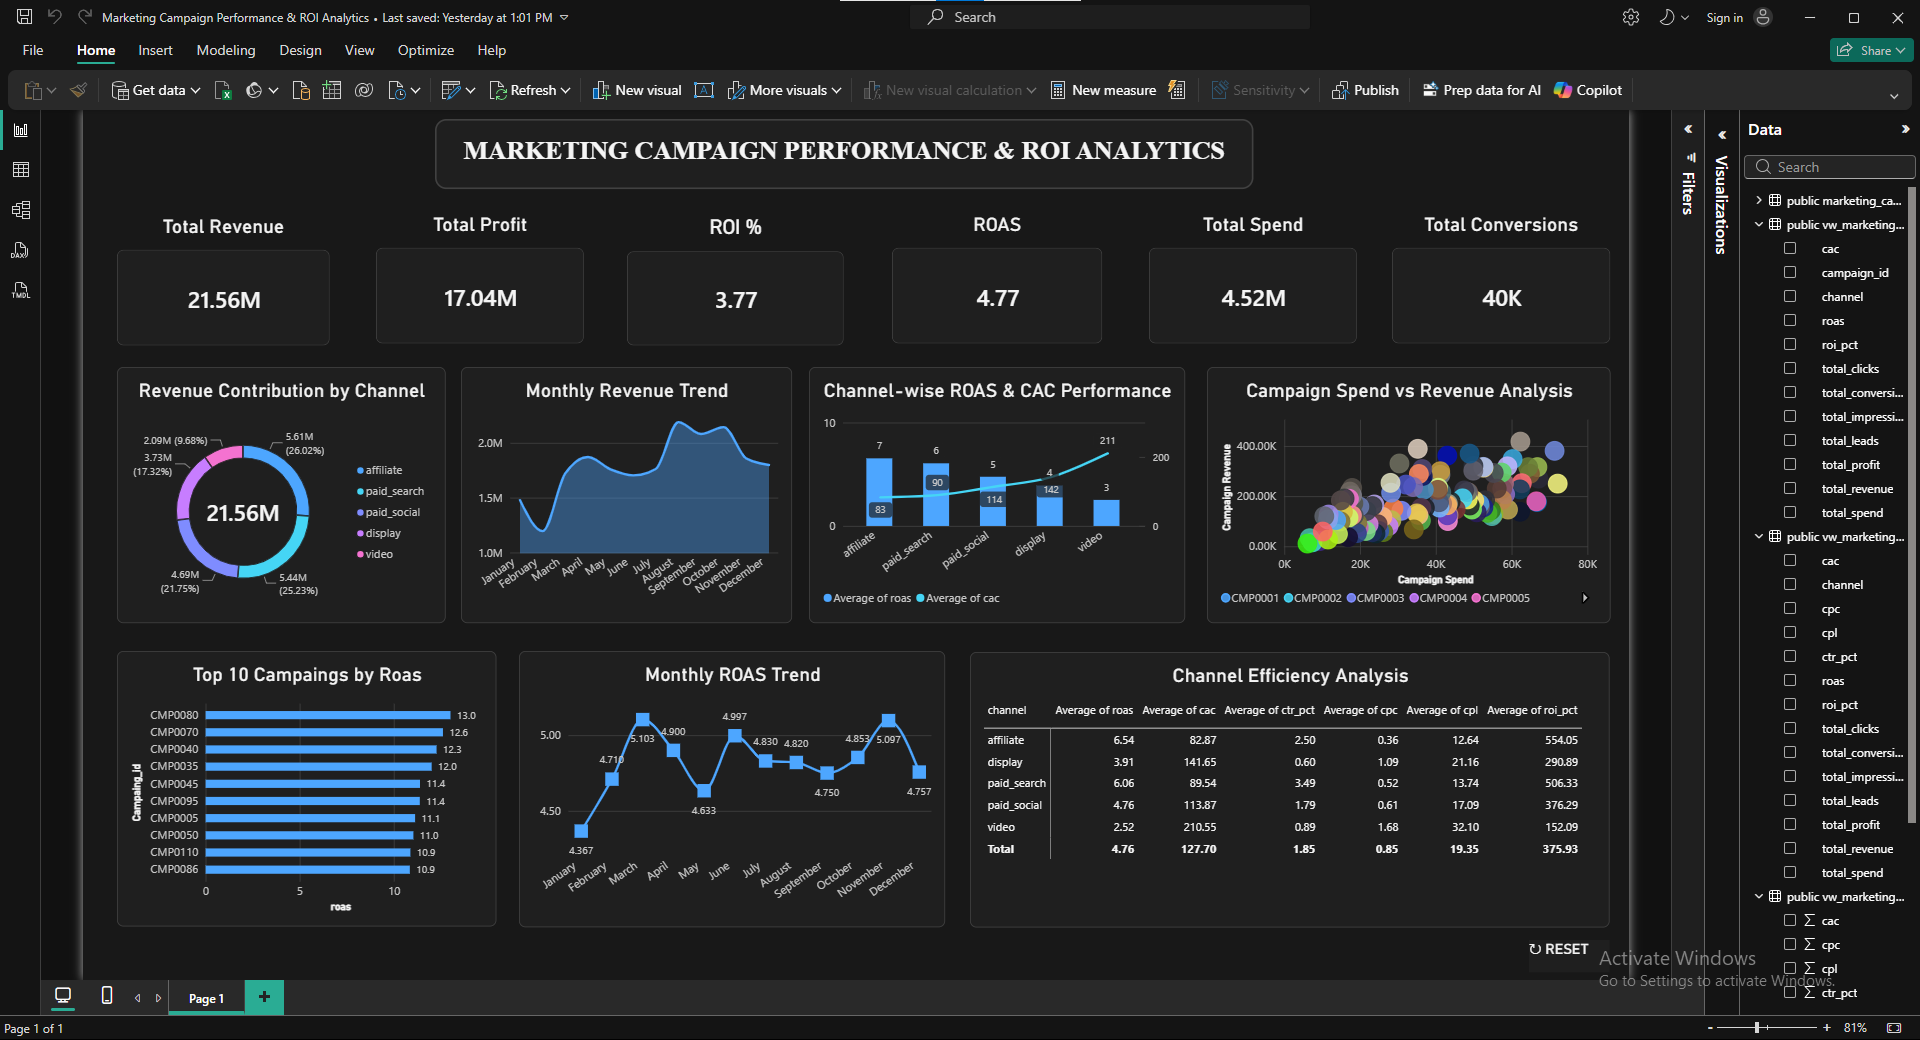

What the dashboard file says about the page in this screenshot:
{"tool":"powerbi","page":{"name":"Page 1","canvas":[1920,1080],"ordinal":0},"visuals":[{"type":"cardVisual","title":"Total Revenue","fields":{"Data":["public marketing_campaigns.Total Revenue"]},"box":[42.7,130.7,264.3,162.3],"z":0},{"type":"cardVisual","title":"Total Profit","fields":{"Data":["public marketing_campaigns.Total Profit"]},"box":[363.6,128.1,259,162.3],"z":1000},{"type":"cardVisual","title":"ROI %","fields":{"Data":["public marketing_campaigns.ROI %"]},"box":[675.4,130.7,269.7,162.3],"z":2000},{"type":"cardVisual","title":"ROAS","fields":{"Data":["public marketing_campaigns.ROAS"]},"box":[1004,128.1,261.6,162.3],"z":3000},{"type":"cardVisual","title":"Total Spend","fields":{"Data":["public marketing_campaigns.Total Spend"]},"box":[1323.6,128.1,259,162.3],"z":4000},{"type":"donutChart","title":"Revenue Contribution by Channel","fields":{"Category":["public marketing_campaigns.channel"],"Y":["public marketing_campaigns.Total Revenue"]},"box":[42.7,319.6,407.6,318.3],"z":5000},{"type":"areaChart","title":"Monthly Revenue Trend","fields":{"Category":["public marketing_campaigns.spend_date.Variation.Date Hierarchy.Month"],"Y":["public marketing_campaigns.Total Revenue"]},"box":[469.6,319.6,410.5,318.3],"z":6000},{"type":"cardVisual","title":"Total Conversions","fields":{"Data":["public marketing_campaigns.Total Conversions"]},"box":[1625,128.1,271,162.3],"z":7000},{"type":"lineClusteredColumnComboChart","title":"Channel-wise ROAS & CAC Performance","fields":{"Category":["public vw_marketing_channel_performance.channel"],"Y":["Avg(public vw_marketing_channel_performance.roas)"],"Y2":["Avg(public vw_marketing_channel_performance.cac)"]},"box":[901.8,319.6,466.7,318.3],"z":7001},{"type":"clusteredBarChart","title":"Top 10 Campaings by Roas","fields":{"Category":["public vw_marketing_campaign_performance.campaign_id"],"Y":["Avg(public vw_marketing_campaign_performance.roas)"]},"box":[42.7,671.5,470.9,341.6],"z":7002},{"type":"lineChart","title":"Monthly ROAS Trend","fields":{"Category":["public vw_marketing_monthly_performance.month.Variation.Date Hierarchy.Month"],"Y":["Avg(public vw_marketing_monthly_performance.roas)"]},"box":[540.8,671.5,529.2,342.9],"z":7003},{"type":"pivotTable","title":"Channel Efficiency Analysis","fields":{"Rows":["public vw_marketing_channel_performance.channel"],"Values":["Avg(public vw_marketing_channel_performance.roas)","Avg(public vw_marketing_channel_performance.cac)","Avg(public vw_marketing_channel_performance.ctr_pct)","Avg(public vw_marketing_channel_performance.cpc)","Avg(public vw_marketing_channel_performance.cpl)","Avg(public vw_marketing_channel_performance.roi_pct)"]},"box":[1101,672.8,794.4,341.6],"z":7004},{"type":"scatterChart","title":"Campaign Spend vs Revenue Analysis","fields":{"Series":["public vw_marketing_campaign_performance.campaign_id"],"Size":["CountNonNull(public vw_marketing_campaign_performance.total_conversions)"],"X":["public vw_marketing_campaign_performance.total_spend"],"Y":["public vw_marketing_campaign_performance.total_revenue"]},"box":[1394.7,319.6,501.2,318.3],"z":7005},{"type":"textbox","box":[437.3,11.6,1015.6,86.7],"z":7006},{"type":"actionButton","title":"↻ RESET ","box":[1794.8,1030,100,40],"z":7007}]}

Visuals, with their boxes on the page's 1920x1080 design canvas (x1, y1, x2, y2). These are canvas units, not pixel positions in the 1920x1040 screenshot, which may show the page scaled, cropped or inside an application window:
"Total Revenue" cardVisual: BBox(43, 131, 307, 293)
"Total Profit" cardVisual: BBox(364, 128, 623, 290)
"ROI %" cardVisual: BBox(675, 131, 945, 293)
"ROAS" cardVisual: BBox(1004, 128, 1266, 290)
"Total Spend" cardVisual: BBox(1324, 128, 1583, 290)
"Revenue Contribution by Channel" donutChart: BBox(43, 320, 450, 638)
"Monthly Revenue Trend" areaChart: BBox(470, 320, 880, 638)
"Total Conversions" cardVisual: BBox(1625, 128, 1896, 290)
"Channel-wise ROAS & CAC Performance" lineClusteredColumnComboChart: BBox(902, 320, 1368, 638)
"Top 10 Campaings by Roas" clusteredBarChart: BBox(43, 672, 514, 1013)
"Monthly ROAS Trend" lineChart: BBox(541, 672, 1070, 1014)
"Channel Efficiency Analysis" pivotTable: BBox(1101, 673, 1895, 1014)
"Campaign Spend vs Revenue Analysis" scatterChart: BBox(1395, 320, 1896, 638)
textbox: BBox(437, 12, 1453, 98)
"↻ RESET " actionButton: BBox(1795, 1030, 1895, 1070)
